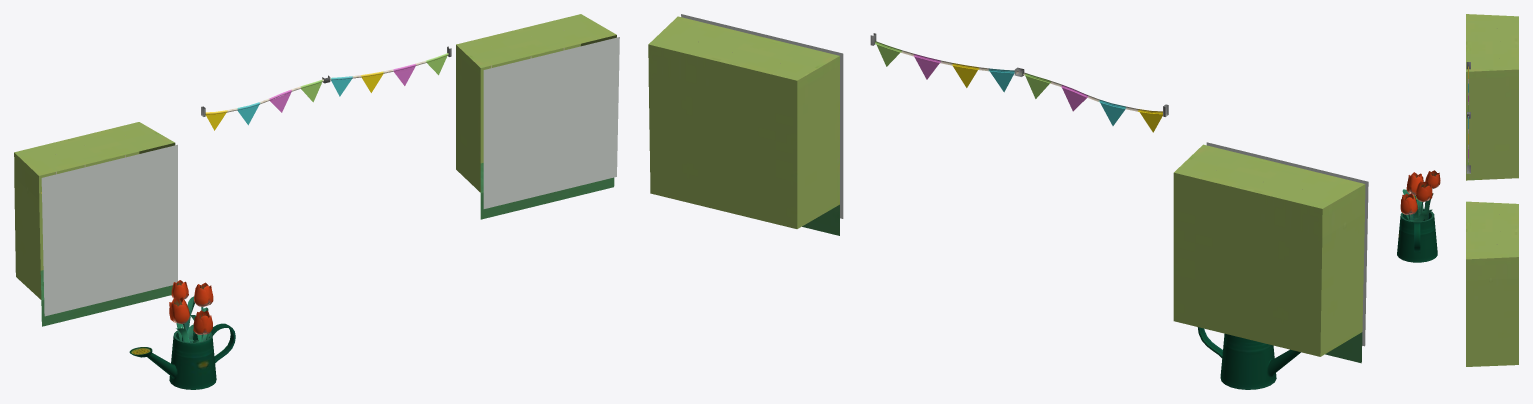
File: shop-deco-spring.glb
The picture shows the model from 3 angles, left to right: view 1: azimuth 30°, elevation 25°; view 2: azimuth 150°, elevation 25°; view 3: azimuth 270°, elevation 25°; orthographic projection. The views are drawn at different scales.
Parts seen in each view (by area): view 1: StrcMarketA02SpringDeco_node3, StrcMarketA02SpringDeco_node2, StrcMarketA02SpringDeco_node1; view 2: StrcMarketA02SpringDeco_node2, StrcMarketA02SpringDeco_node3; view 3: StrcMarketA02SpringDeco_node2, StrcMarketA02SpringDeco_node1.
Part boxes in pixels (box(x1,y1,x2,y2)): StrcMarketA02SpringDeco_node3: box(41, 37, 619, 316); StrcMarketA02SpringDeco_node2: box(14, 14, 616, 389); StrcMarketA02SpringDeco_node1: box(169, 280, 213, 342); StrcMarketA02SpringDeco_node2: box(648, 16, 1365, 389); StrcMarketA02SpringDeco_node3: box(681, 14, 1368, 346); StrcMarketA02SpringDeco_node2: box(1397, 14, 1518, 366); StrcMarketA02SpringDeco_node1: box(1400, 170, 1440, 221).
Bounding box in the file's own units: 49.21 × 19.65 × 10.32.
Materials: 3 (2 with a texture image).
